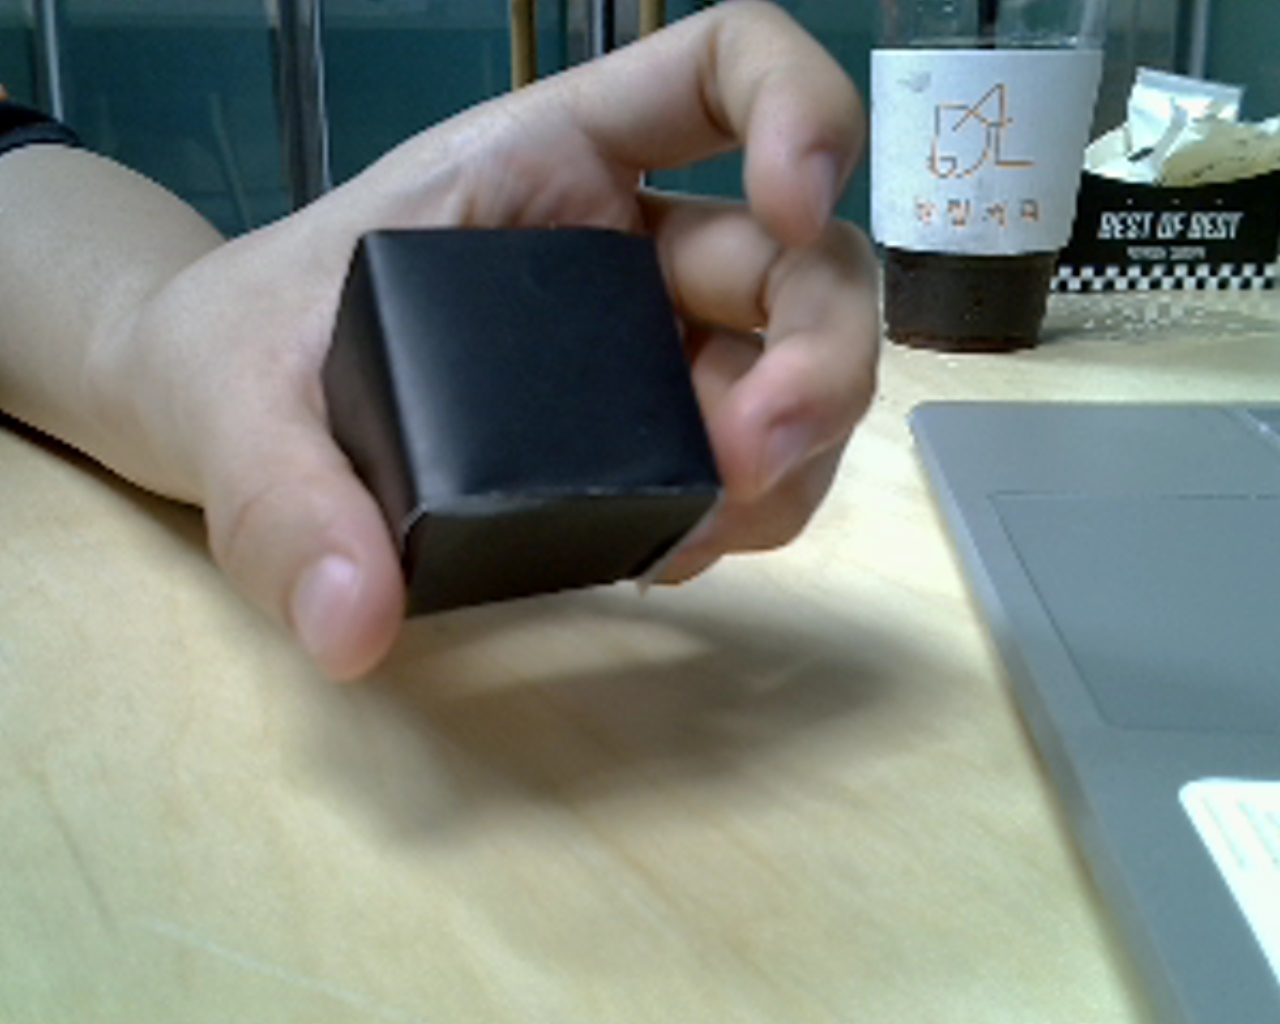blackbox: (282, 186, 745, 658)
